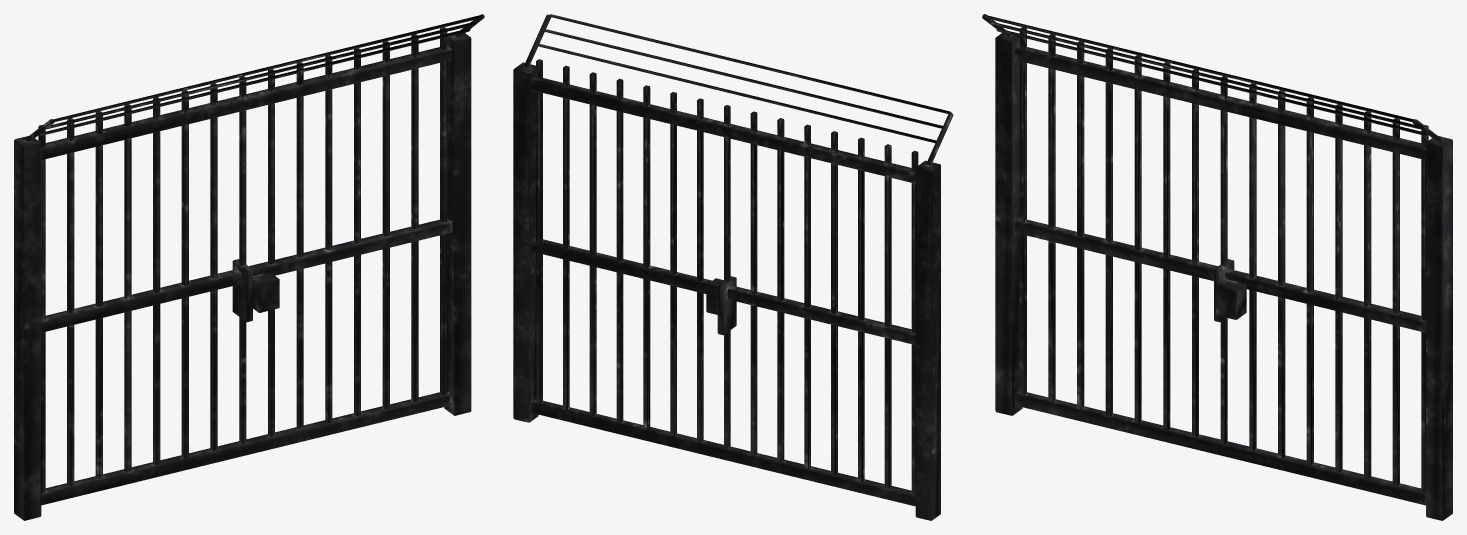
File: Reja_Deposito.fbx
3 views of the same model, side by side, from view 1: azimuth 30°, elevation 25°; view 2: azimuth 150°, elevation 25°; view 3: azimuth 330°, elevation 25° (orthographic). The views are drawn at different scales.
Visible parts, largest first — view 1: Reja_Deposito; view 2: Reja_Deposito; view 3: Reja_Deposito.
Part boxes in pixels (x1,y1,x2,y2): Reja_Deposito: [14, 14, 484, 520]; Reja_Deposito: [513, 14, 953, 520]; Reja_Deposito: [982, 14, 1452, 520].
Bounding box in the file's own units: 12.5 × 11.04 × 1.59.
